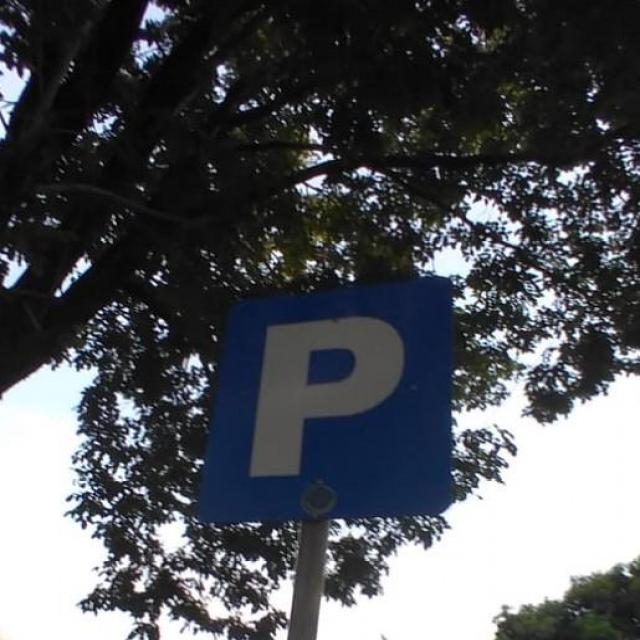traffic sign: (200, 280, 448, 514)
